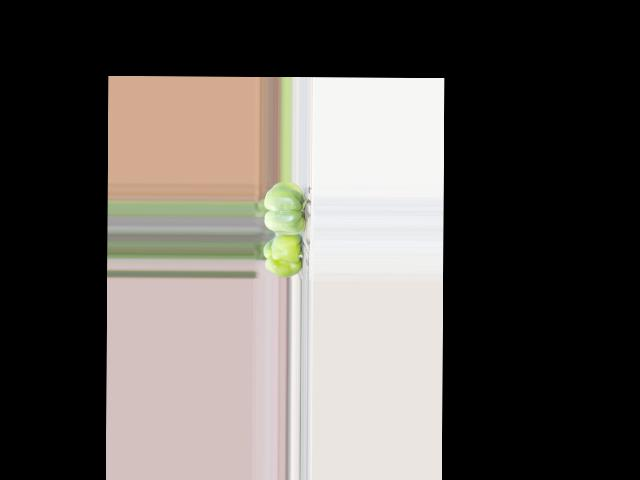bell_pepper: (261, 233, 305, 278)
